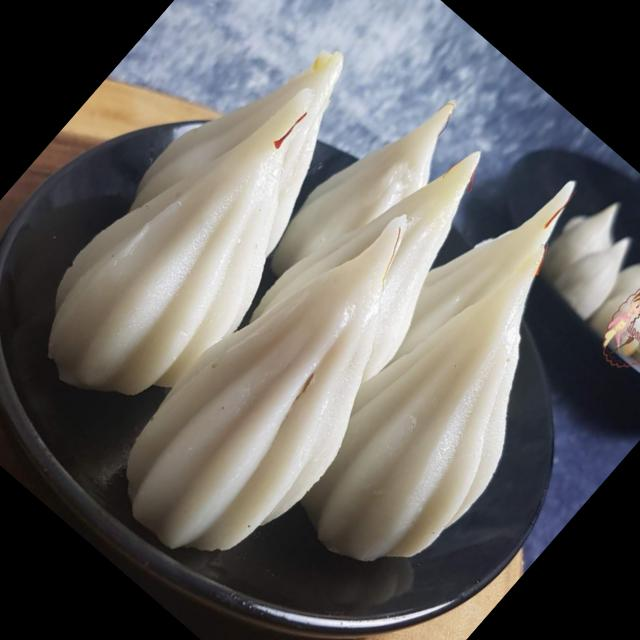modak: (84, 174, 483, 596), (254, 212, 637, 618), (2, 45, 384, 448), (529, 188, 640, 388)
